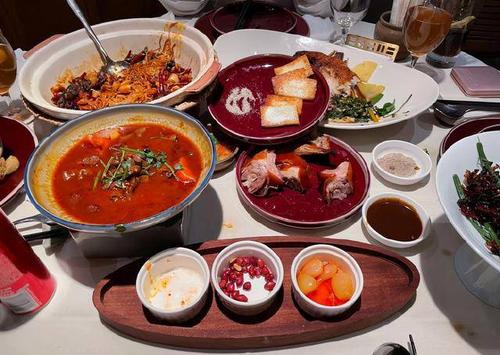food: (25, 96, 220, 241), (25, 13, 209, 120), (206, 41, 353, 143), (235, 128, 371, 225), (317, 54, 424, 129), (441, 137, 499, 253), (208, 234, 285, 320), (133, 242, 213, 324), (289, 237, 364, 320), (370, 135, 431, 187)
